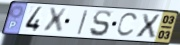4: (23, 6, 45, 34)
C: (115, 12, 140, 39)
I: (76, 9, 90, 36)
S: (88, 9, 112, 38)
X: (42, 7, 69, 34), (134, 13, 162, 39)
